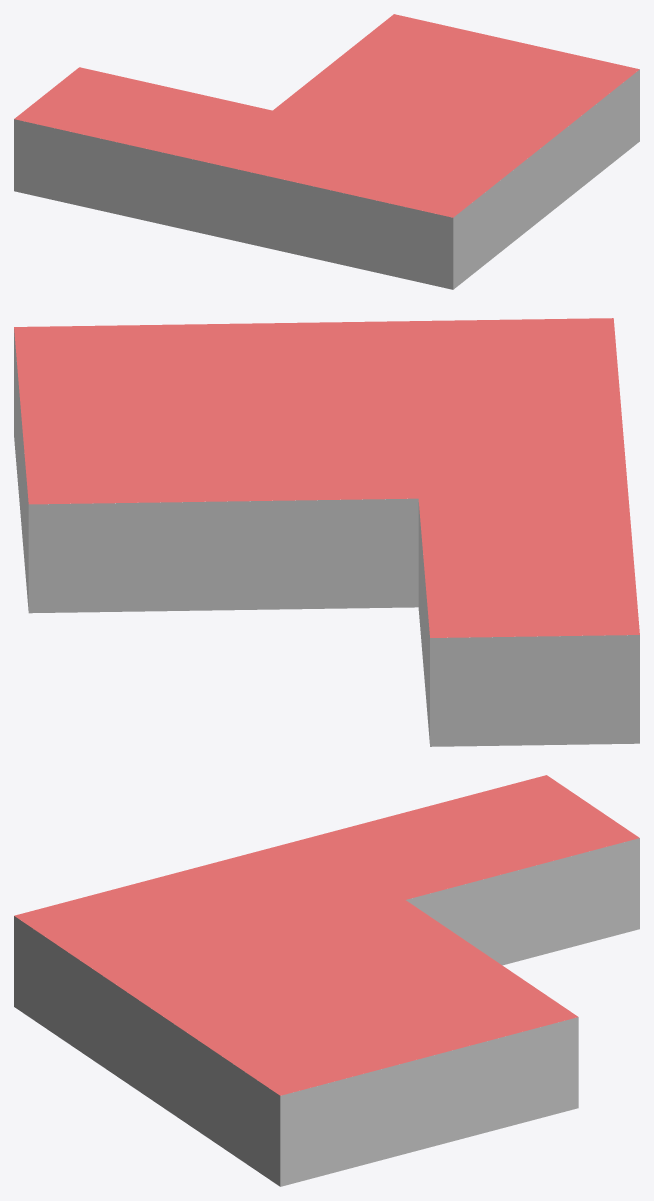
File: ID_61682f35-13f2-465f-9539-c5c1bbefac2a.gltf
3 renders of one model, top to bottom at view 1: azimuth 30°, elevation 25°; view 2: azimuth 150°, elevation 25°; view 3: azimuth 270°, elevation 25°, orthographic. The views are drawn at different scales.
Visible parts, largest first — view 1: Z_UP; view 2: Z_UP; view 3: Z_UP.
Boxes of the visible parts, <box> form: Z_UP: <box>14,14,639,289</box>; Z_UP: <box>14,318,639,746</box>; Z_UP: <box>14,775,639,1186</box>.
Bounding box in the file's own units: 30.21 × 4 × 24.91.
